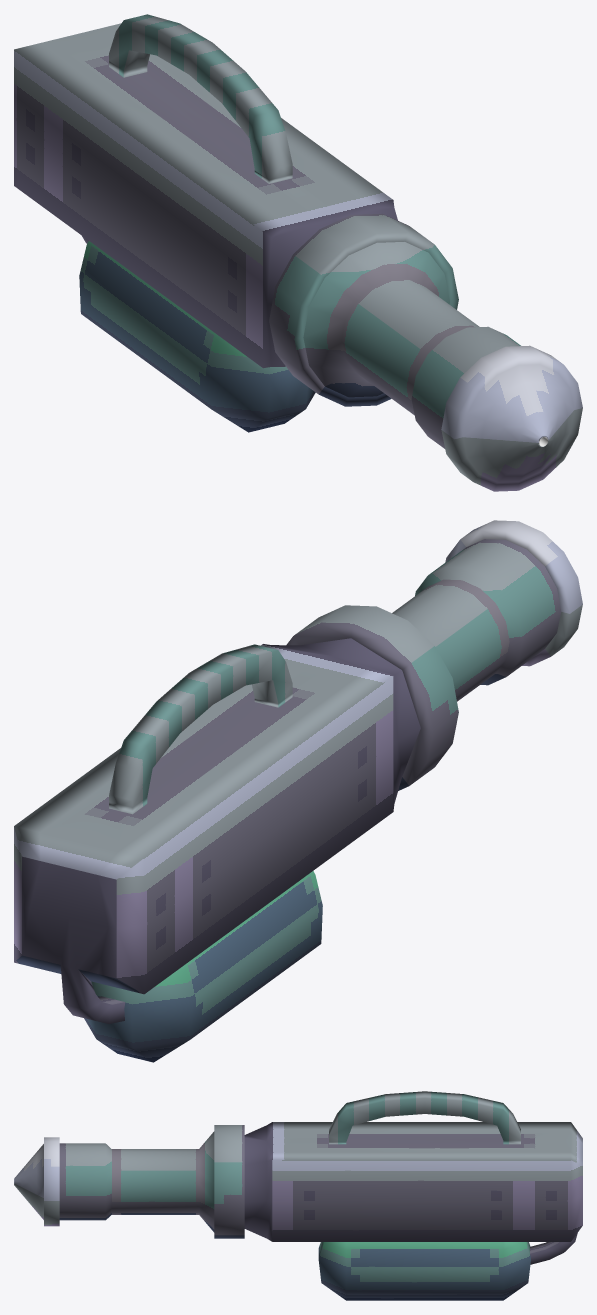
File: Laser.fbx
3 renders of one model, top to bottom at view 1: azimuth 30°, elevation 25°; view 2: azimuth 150°, elevation 25°; view 3: azimuth 270°, elevation 25°, orthographic. The views are drawn at different scales.
Parts seen in each view (by area): view 1: Cone; view 2: Cone; view 3: Cone.
Boxes of the visible parts, x1,y1,x2,y2 form: Cone: (14, 14, 582, 491); Cone: (14, 520, 582, 1062); Cone: (14, 1091, 582, 1300).
Bounding box in the file's own units: 73.86 × 144 × 369.
1 material, 1 textured.
